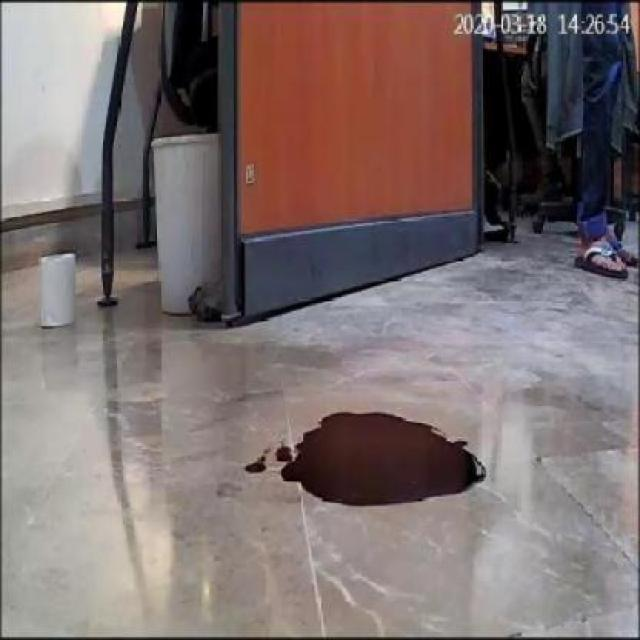spillage: (230, 400, 500, 505)
